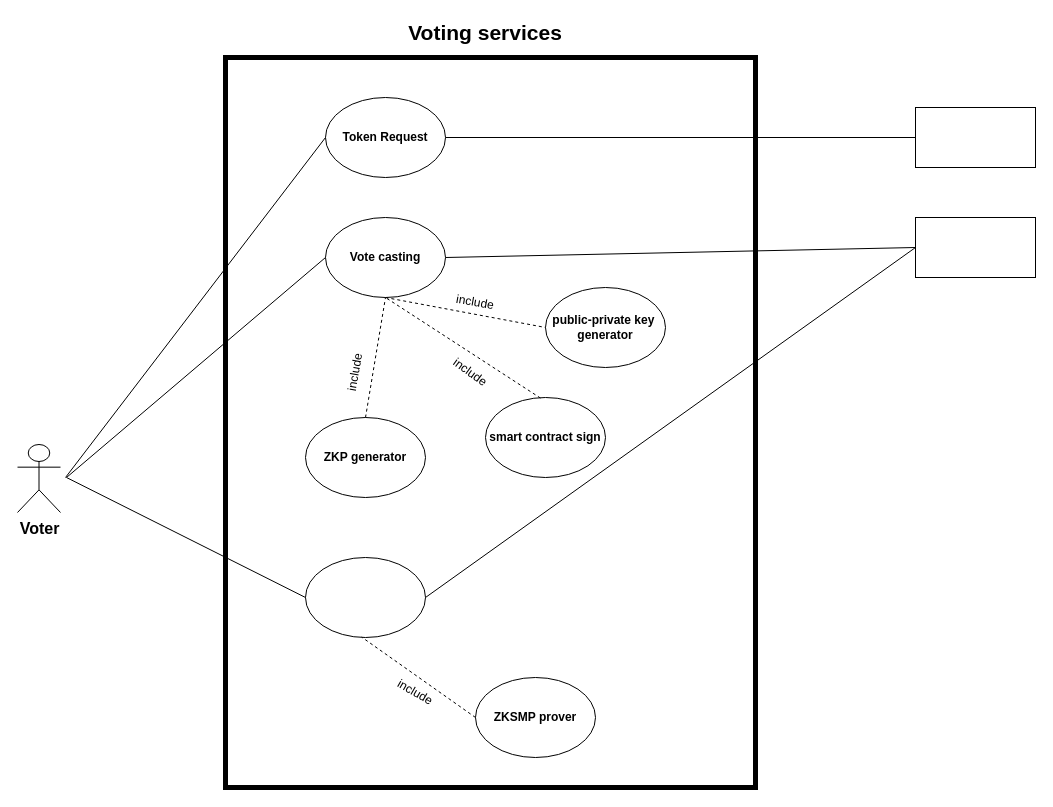
Some shapes in this 1053 by 807 pixel diagram are drawn without their labels. Each missing label, with the centre of its shape:
Blockchain: point 975,247
Token generator: point 975,137
Vote proving: point 365,597
